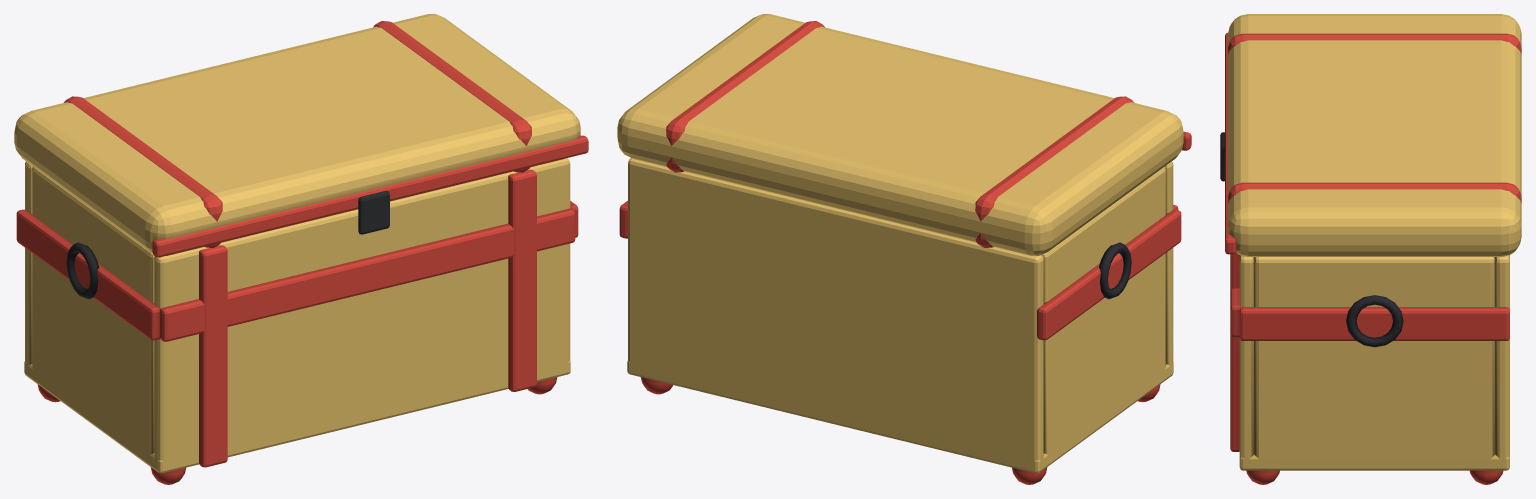
Rendered from toyChest.glb.
The picture shows the model from 3 angles, left to right: view 1: azimuth 30°, elevation 25°; view 2: azimuth 150°, elevation 25°; view 3: azimuth 270°, elevation 25°; orthographic projection.
Visible parts, largest first — view 1: body, lid; view 2: body, lid; view 3: lid, body.
Part boxes in pixels (x1,y1,x2,y2): body: (16, 158, 578, 484); lid: (14, 14, 588, 257); body: (619, 158, 1181, 484); lid: (617, 14, 1191, 255); lid: (1220, 14, 1521, 256); body: (1230, 253, 1509, 484).
Bounding box in the file's own units: 0.8456 × 0.534 × 0.513.
